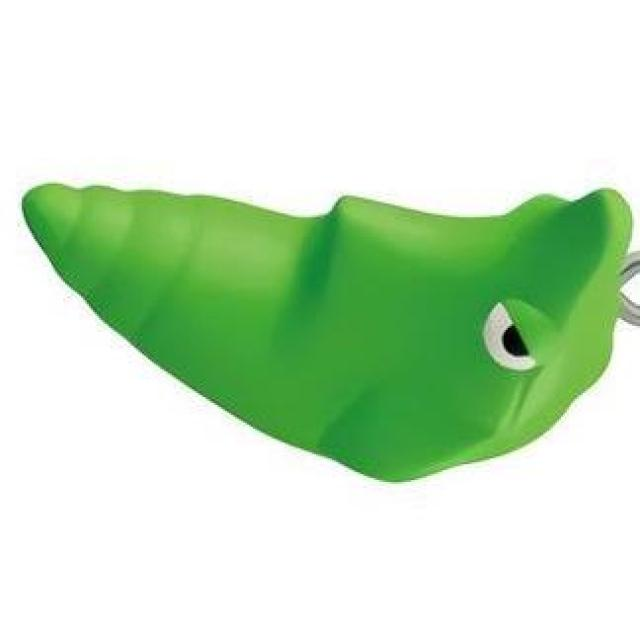Metapod: (9, 152, 638, 490)
